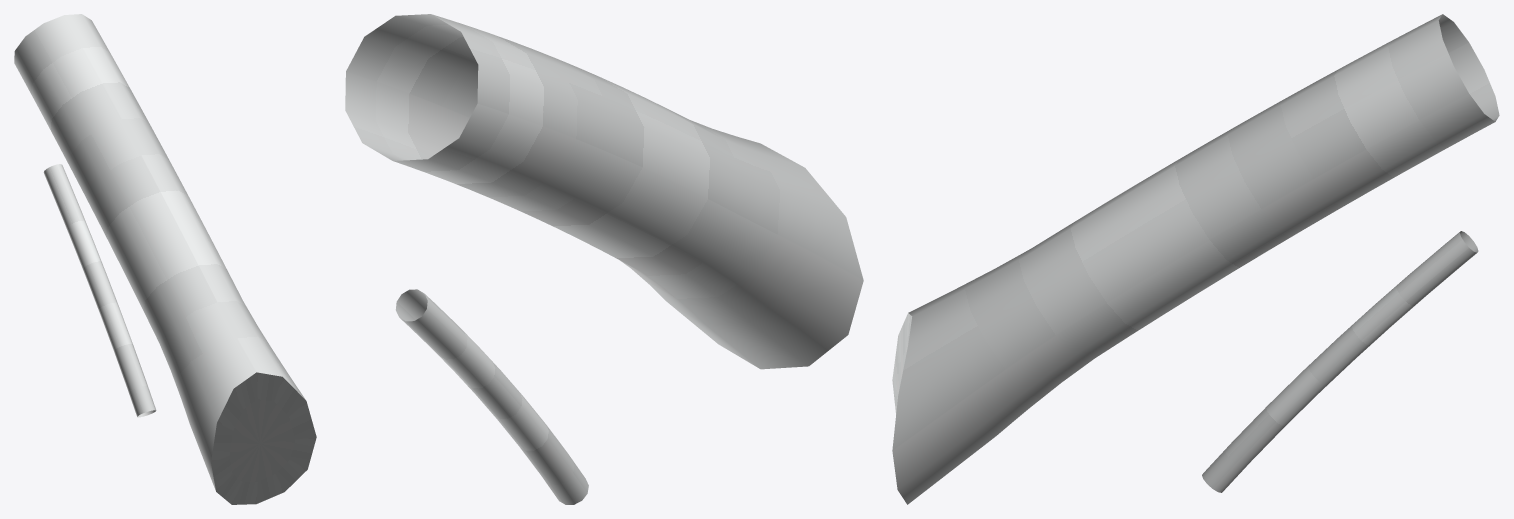
File: luminairearm_laupsweep12ft_c0.obj
3 renders of one model, left to right at view 1: azimuth 30°, elevation 25°; view 2: azimuth 150°, elevation 25°; view 3: azimuth 270°, elevation 25°, orthographic. The views are drawn at different scales.
Parts seen in each view (by area): view 1: luminairearm_laupsweep12ft_c0; view 2: luminairearm_laupsweep12ft_c0; view 3: luminairearm_laupsweep12ft_c0.
Part boxes in pixels (left/top/right/bottom): luminairearm_laupsweep12ft_c0: left=14, top=14, right=316, bottom=504; luminairearm_laupsweep12ft_c0: left=345, top=14, right=863, bottom=504; luminairearm_laupsweep12ft_c0: left=892, top=14, right=1499, bottom=504.
Size of the model in its own units: 0.3375 by 1.06 by 1.23.
